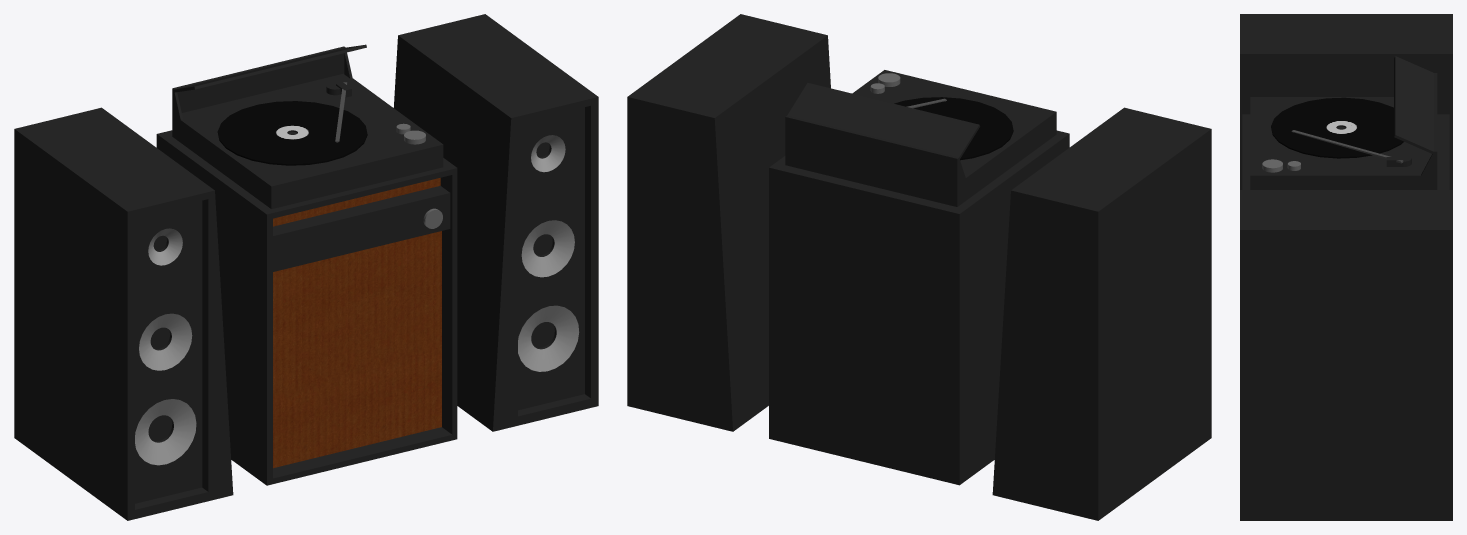
The model's file is Plattenspieler.fbx.
3 views of the same model, side by side, from view 1: azimuth 30°, elevation 25°; view 2: azimuth 150°, elevation 25°; view 3: azimuth 270°, elevation 25° (orthographic). The views are drawn at different scales.
Parts seen in each view (by area): view 1: Model; view 2: Model; view 3: Model.
Boxes of the visible parts, bbox=[...] form: Model: bbox=[14, 14, 598, 520]; Model: bbox=[627, 14, 1211, 520]; Model: bbox=[1240, 14, 1452, 520].
Bounding box in the file's own units: 1491 × 1021 × 621.
1 material, 1 textured.
